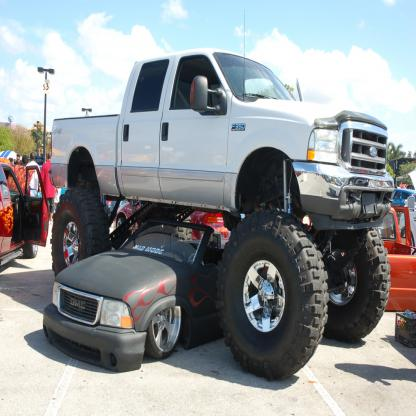Car: (43, 217, 223, 370), (391, 190, 415, 205)
Truck: (47, 48, 394, 382)
